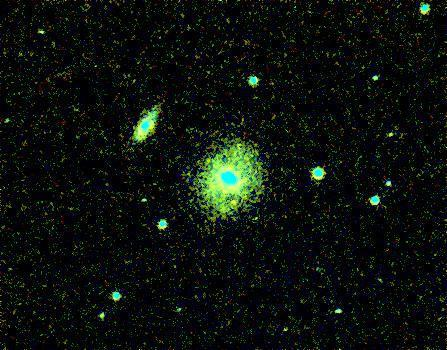star: (219, 186, 249, 216)
